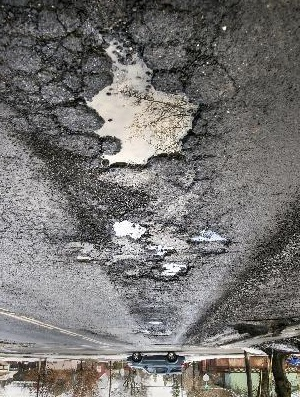pothole: (77, 33, 207, 174), (186, 228, 232, 257), (149, 261, 191, 285), (111, 216, 151, 241), (145, 245, 178, 263), (73, 253, 92, 264)
